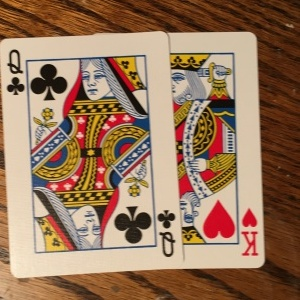card: (1, 32, 185, 276), (169, 30, 266, 270)
